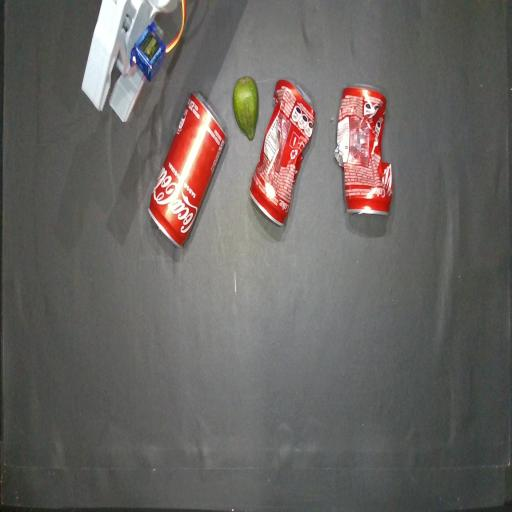higo: (233, 77, 258, 139)
lata: (149, 92, 226, 246)
lata_defectuoso: (250, 79, 315, 226), (334, 85, 393, 215)
